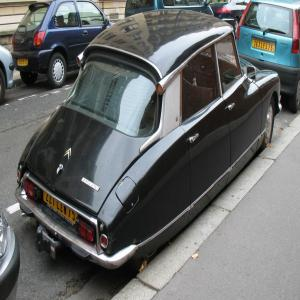Vehicle-registration-plate: (44, 193, 79, 229), (250, 37, 277, 57), (16, 56, 30, 68)
